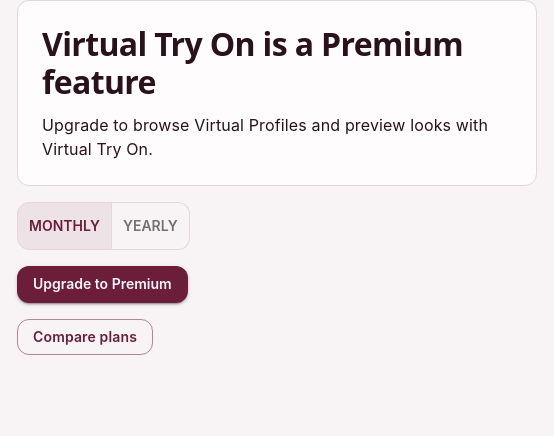
Test: CheckoutUpgradeAction › shows a friendly message when yearly checkout returns 503 BILLING_PRICE_NOT_FOUND
The width and height of the screenshot is (554, 436).
Step 1. Click the button with aria-label "Bill yearly" → click(150, 226), box x1=111 y1=202 x2=190 y2=250
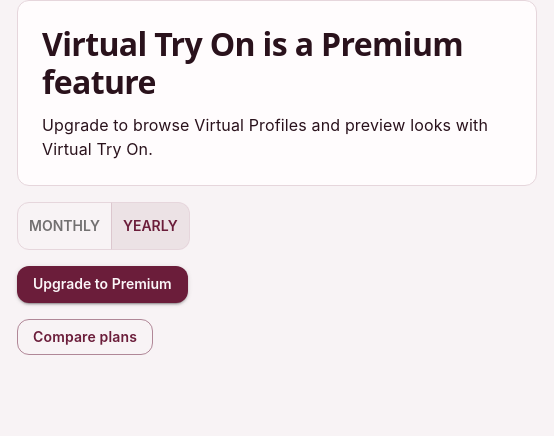
Step 2. Click the button with aria-label "Upgrade to Premium for Virtual Try On" → click(102, 285), box x1=17 y1=266 x2=188 y2=303
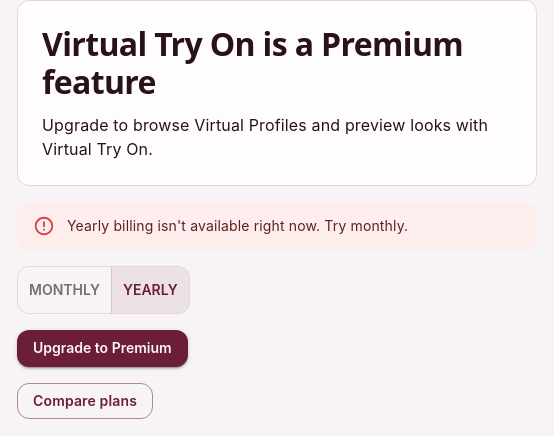
Result: the message reads "Yearly billing isn't available right now. Try monthly." at x1=67 y1=217 x2=408 y2=234
